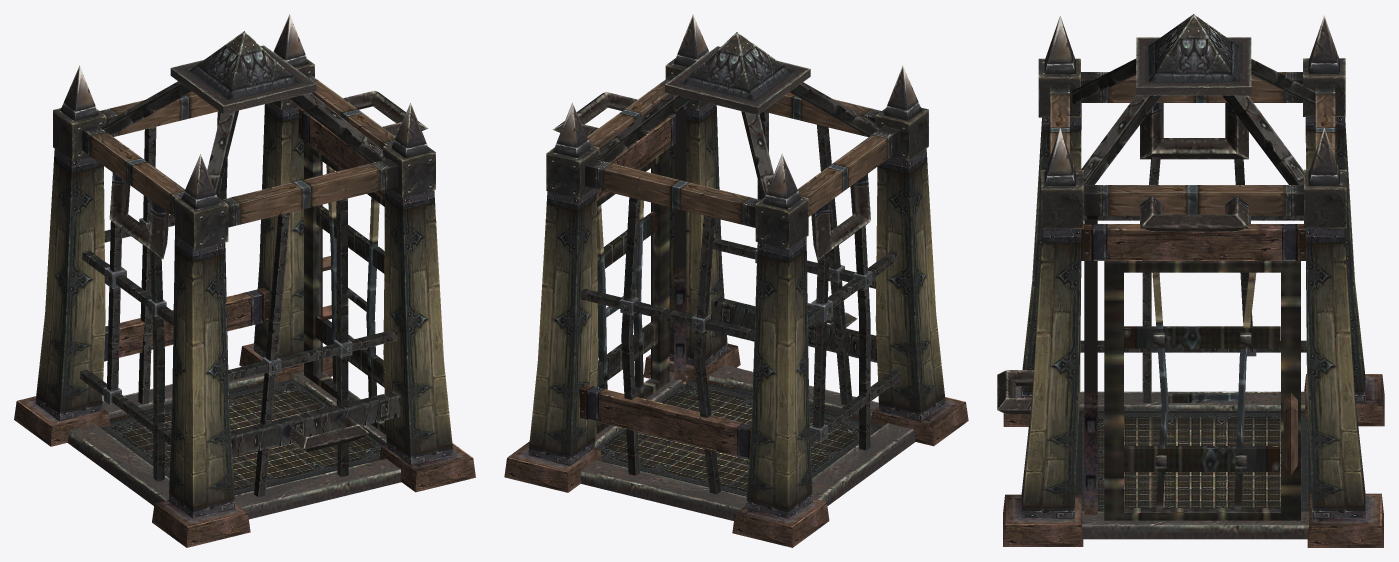
File: d_1310_longzi.FBX
3 views of the same model, side by side, from view 1: azimuth 30°, elevation 25°; view 2: azimuth 150°, elevation 25°; view 3: azimuth 270°, elevation 25° (orthographic). The views are drawn at different scales.
Parts seen in each view (by area): view 1: d_1310_Thing01, d_1310_Thing02; view 2: d_1310_Thing01, d_1310_Thing02; view 3: d_1310_Thing01, d_1310_Thing02.
Boxes of the visible parts, box(x1,y1,x2,y2) form: d_1310_Thing01: box(14, 14, 475, 547); d_1310_Thing02: box(304, 141, 386, 434); d_1310_Thing01: box(504, 14, 968, 547); d_1310_Thing02: box(595, 148, 669, 435); d_1310_Thing01: box(997, 14, 1384, 547); d_1310_Thing02: box(1104, 261, 1300, 520).
Size of the model in its own units: 330 by 440 by 333.
Materials: 1 (1 with a texture image).
